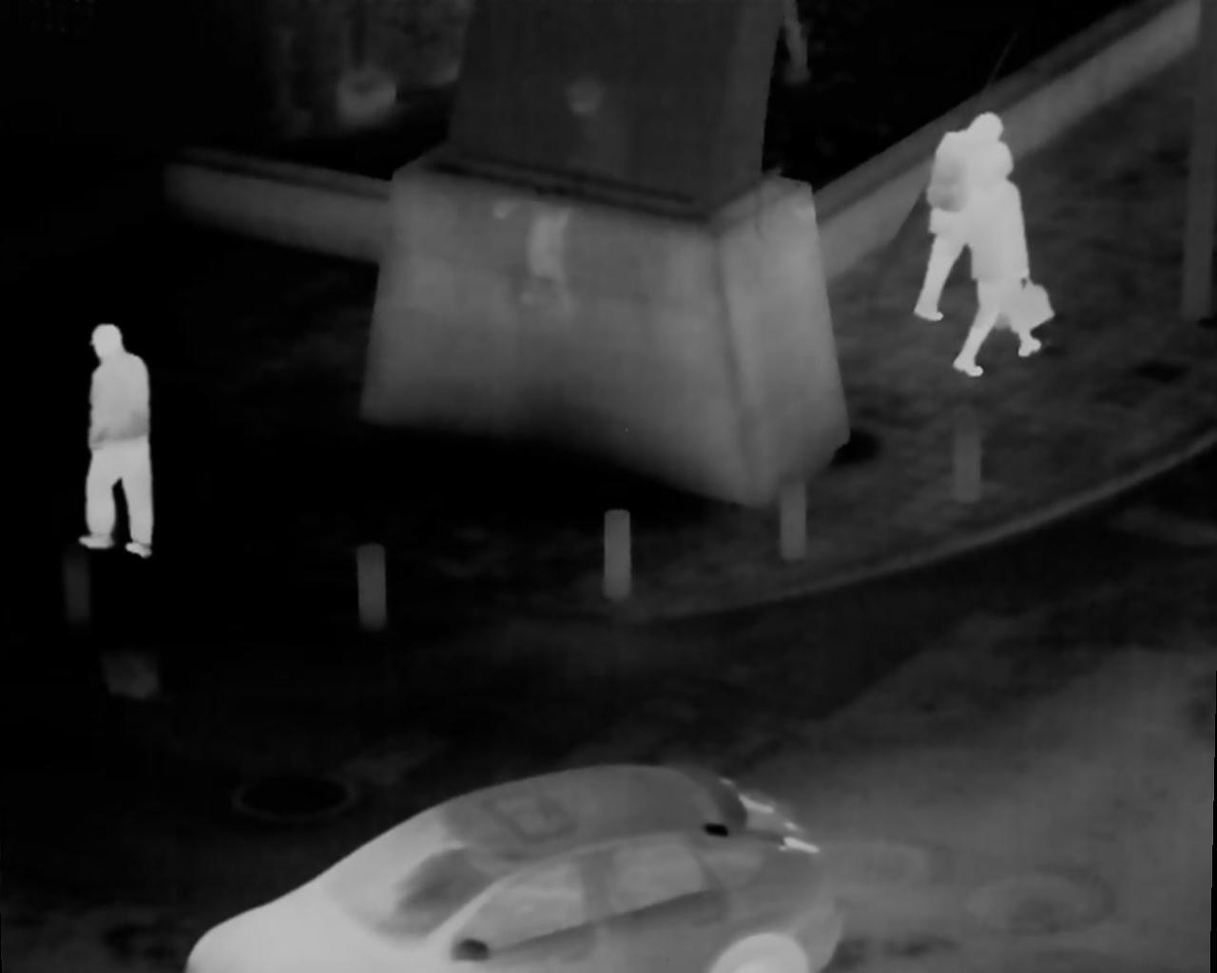person: (913, 115, 1012, 332), (75, 321, 161, 555), (971, 147, 1039, 359)
